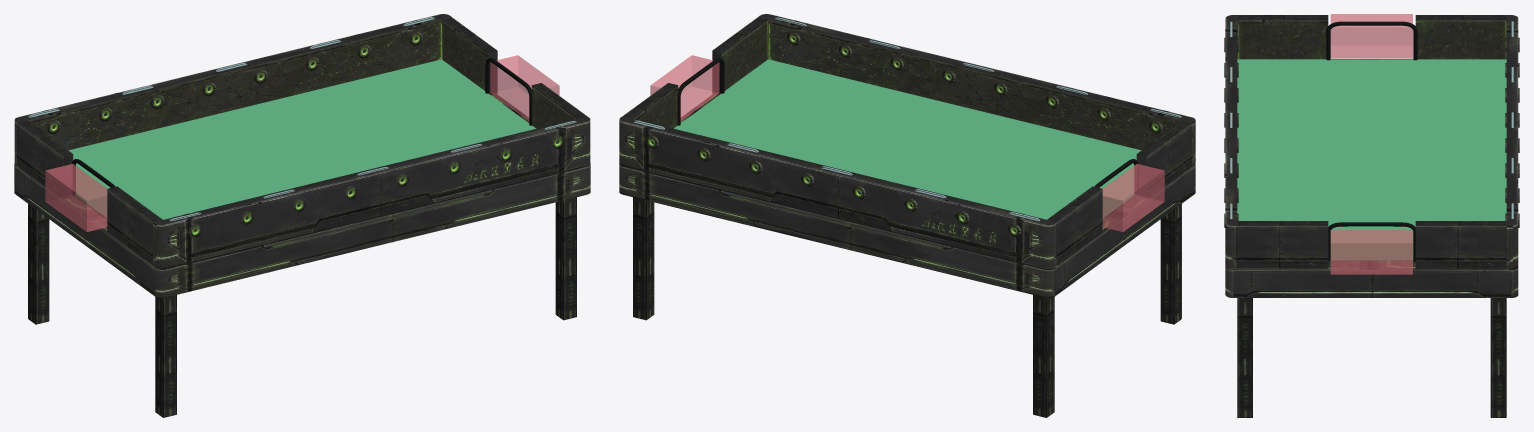
Rendered from full.glb.
3 views of the same model, side by side, from view 1: azimuth 30°, elevation 25°; view 2: azimuth 150°, elevation 25°; view 3: azimuth 270°, elevation 25° (orthographic).
Visible parts, largest first — view 1: field.001, wall_side_near.001, table_base.001, wall_side_far.001, goal_net_left.001, wall_end_l_far.001, table_leg.005, table_leg.007, wall_end_r_far.001, wall_end_l_near.001, table_leg.004, goal_net_right.001 (+3 smaller); view 2: field.001, wall_side_far.001, table_base.001, wall_side_near.001, goal_net_left.001, wall_end_l_near.001, table_leg.004, table_leg.006, wall_end_r_near.001, wall_end_l_far.001, table_leg.005, goal_net_right.001 (+3 smaller); view 3: field.001, table_base.001, wall_end_r_far.001, wall_end_r_near.001, wall_end_l_far.001, wall_end_l_near.001, goal_net_right.001, goal_net_left.001, wall_side_near.001, wall_side_far.001, table_leg.006, table_leg.007 (+2 smaller).
Boxes of the visible parts, bbox=[...] form: field.001: bbox=[68, 59, 536, 219]; wall_side_near.001: bbox=[153, 116, 590, 268]; table_base.001: bbox=[14, 94, 590, 297]; wall_side_far.001: bbox=[14, 14, 451, 165]; goal_net_left.001: bbox=[45, 164, 107, 231]; wall_end_l_far.001: bbox=[17, 121, 73, 199]; table_leg.005: bbox=[155, 295, 176, 417]; table_leg.007: bbox=[555, 197, 576, 320]; wall_end_r_far.001: bbox=[442, 17, 497, 95]; wall_end_l_near.001: bbox=[107, 186, 162, 264]; table_leg.004: bbox=[28, 204, 49, 324]; goal_net_right.001: bbox=[490, 55, 559, 121]; field.001: bbox=[674, 59, 1141, 219]; wall_side_far.001: bbox=[619, 116, 1056, 268]; table_base.001: bbox=[619, 94, 1195, 297]; wall_side_near.001: bbox=[758, 14, 1195, 165]; goal_net_left.001: bbox=[1102, 164, 1164, 231]; wall_end_l_near.001: bbox=[1136, 121, 1192, 199]; table_leg.004: bbox=[1033, 295, 1054, 417]; table_leg.006: bbox=[633, 197, 654, 320]; wall_end_r_near.001: bbox=[712, 17, 767, 95]; wall_end_l_far.001: bbox=[1047, 186, 1102, 264]; table_leg.005: bbox=[1160, 204, 1181, 324]; goal_net_right.001: bbox=[650, 55, 719, 121]; field.001: bbox=[1237, 59, 1506, 260]; table_base.001: bbox=[1225, 59, 1518, 297]; wall_end_r_far.001: bbox=[1415, 221, 1506, 268]; wall_end_r_near.001: bbox=[1237, 221, 1328, 268]; wall_end_l_far.001: bbox=[1415, 15, 1506, 59]; wall_end_l_near.001: bbox=[1237, 15, 1328, 59]; goal_net_right.001: bbox=[1330, 230, 1412, 274]; goal_net_left.001: bbox=[1330, 14, 1412, 58]; wall_side_near.001: bbox=[1225, 15, 1237, 268]; wall_side_far.001: bbox=[1506, 15, 1518, 268]; table_leg.006: bbox=[1490, 298, 1506, 417]; table_leg.007: bbox=[1237, 298, 1252, 417].
Size of the model in its own units: 137 by 55.48 by 74.64.
Materials: 8 (3 with a texture image).
